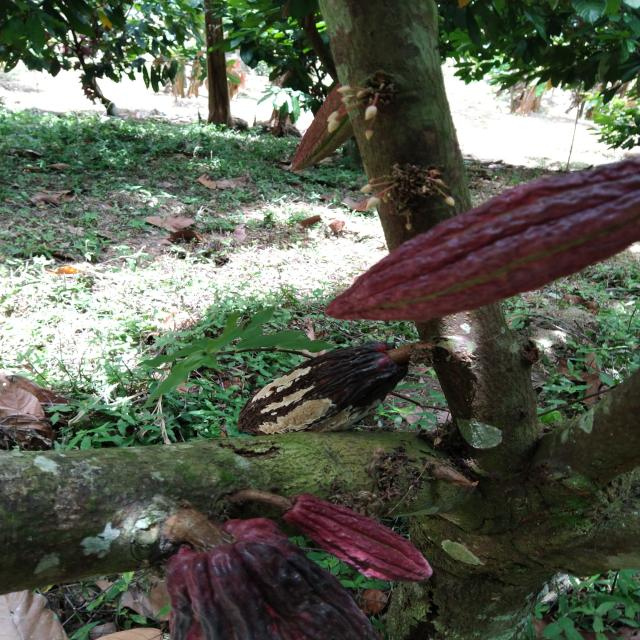Monilia: (238, 348, 410, 437)
Sana: (326, 166, 640, 318), (153, 527, 378, 637), (287, 486, 435, 580), (286, 83, 364, 174)
